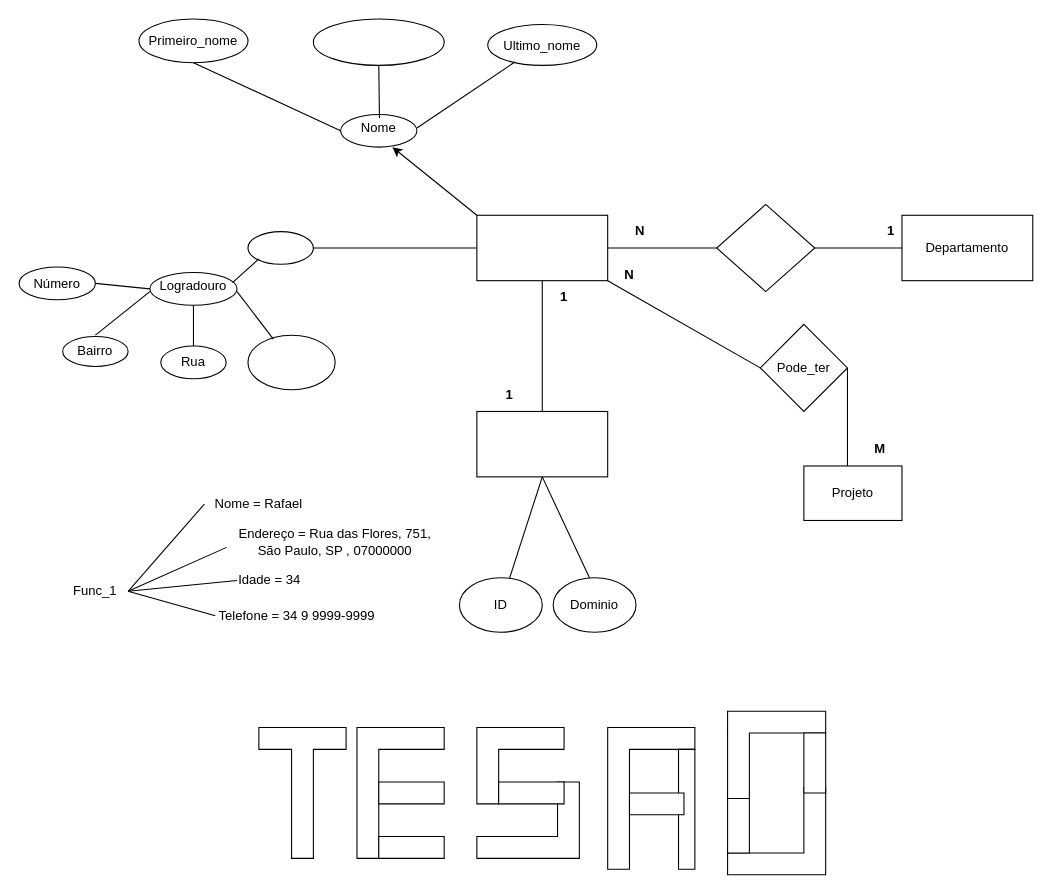
This 1052x894 diagram has some shape labels left out. The box of each missing label's shape, as (x1, y1, x2, y2) in pixels:
Complemento: (247, 334, 335, 390)
Endereço: (247, 231, 313, 264)
Funcionário: (476, 214, 608, 281)
Nome_meio: (312, 18, 444, 65)
Trabalha_para: (716, 203, 815, 292)
Usuário: (476, 410, 608, 477)
